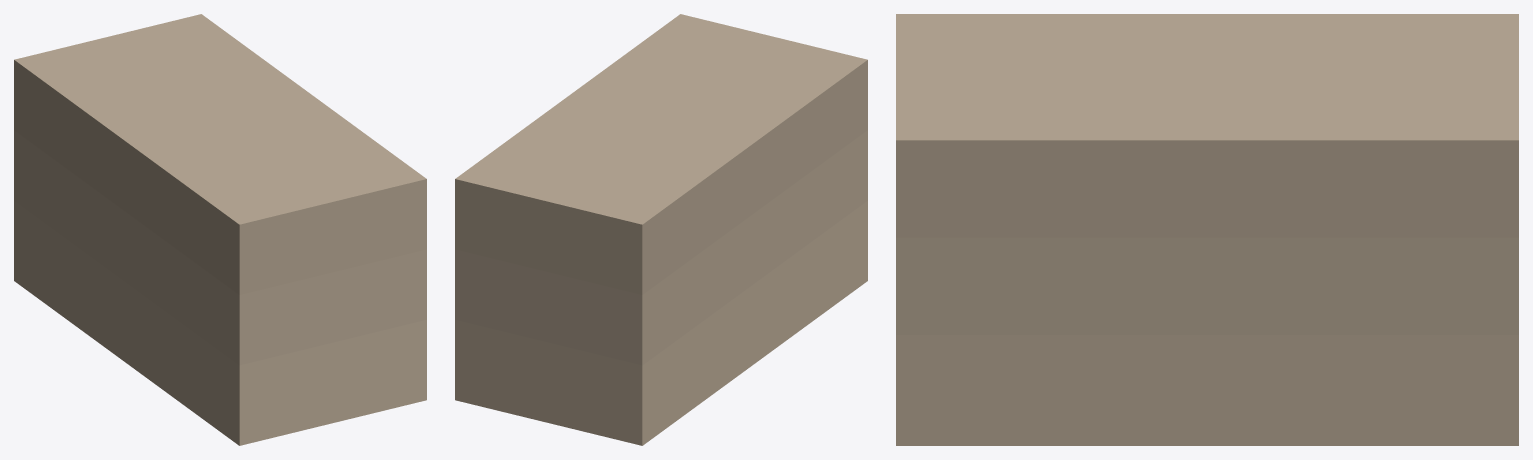
File: massing.glb
3 views of the same model, side by side, from view 1: azimuth 30°, elevation 25°; view 2: azimuth 150°, elevation 25°; view 3: azimuth 270°, elevation 25° (orthographic). The views are drawn at different scales.
Visible parts, largest first — view 1: main/floor3/0, main/floor1/0, main/floor2/0; view 2: main/floor3/0, main/floor1/0, main/floor2/0; view 3: main/floor3/0, main/floor1/0, main/floor2/0.
Boxes of the visible parts, x1=… form: main/floor3/0: x1=14, y1=14, x2=426, y2=294; main/floor1/0: x1=14, y1=201, x2=426, y2=445; main/floor2/0: x1=14, y1=130, x2=426, y2=365; main/floor3/0: x1=455, y1=14, x2=867, y2=294; main/floor1/0: x1=455, y1=201, x2=867, y2=445; main/floor2/0: x1=455, y1=130, x2=867, y2=365; main/floor3/0: x1=896, y1=14, x2=1518, y2=237; main/floor1/0: x1=896, y1=335, x2=1518, y2=445; main/floor2/0: x1=896, y1=237, x2=1518, y2=334.
Size of the model in its own units: 7.8 by 8.8 by 16.25.
